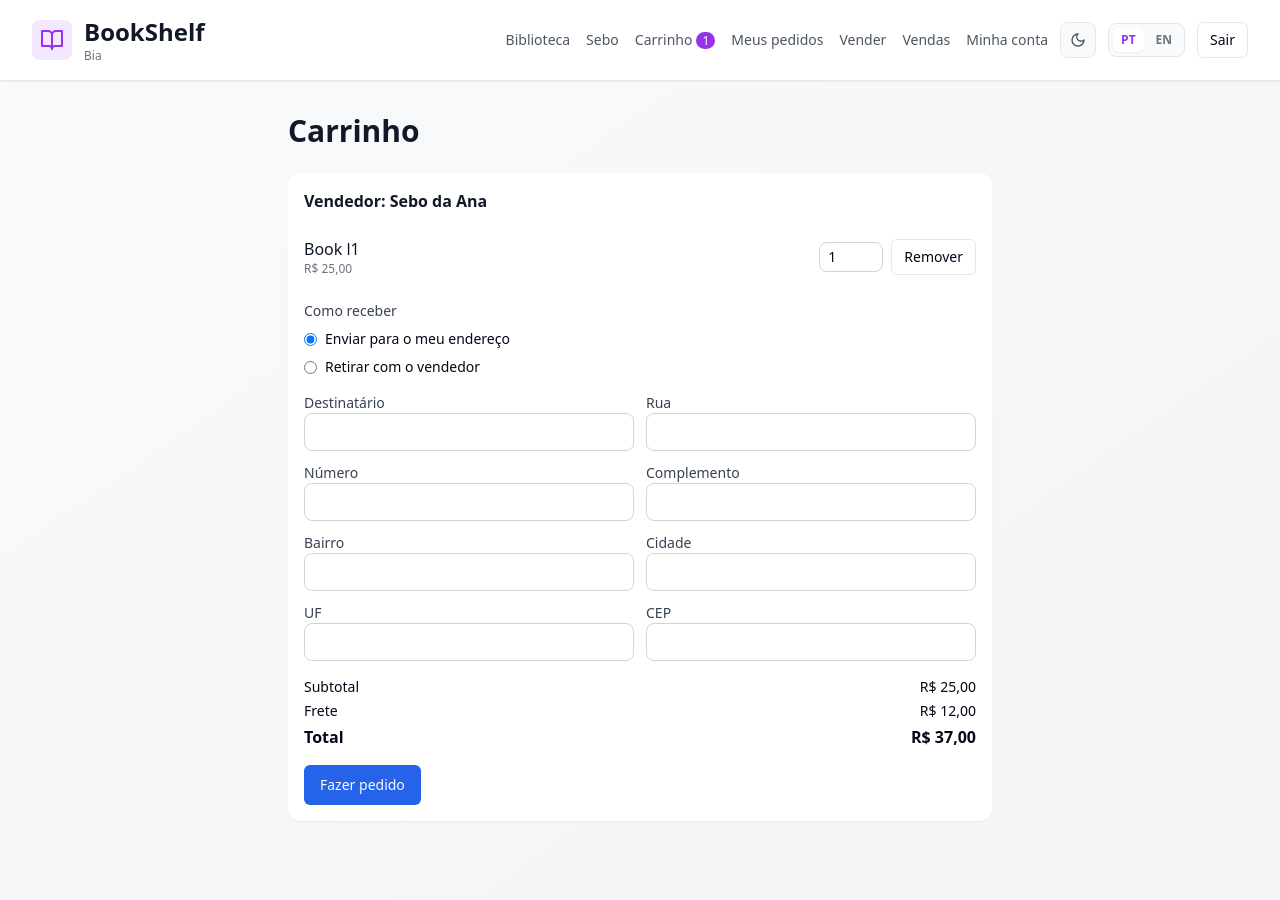
CartPage › shows the localised error and keeps the cart when the order fails
This screenshot has width=1280, height=900.
Click the radio button with test id "cart-method-pickup-seller-1": (310, 367) [304,360,317,374]
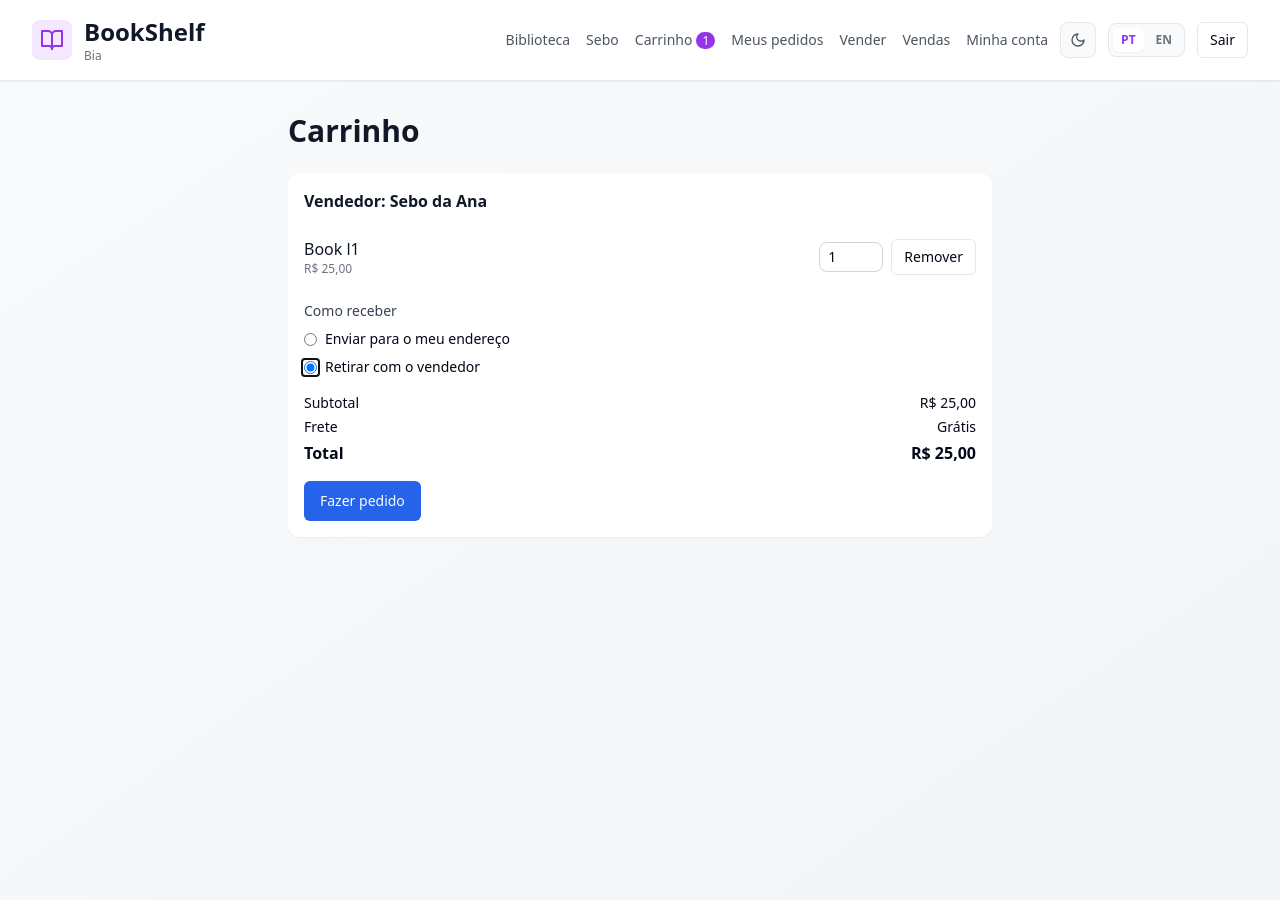
Click the button with test id "cart-checkout-seller-1": (362, 501) [304,481,421,521]
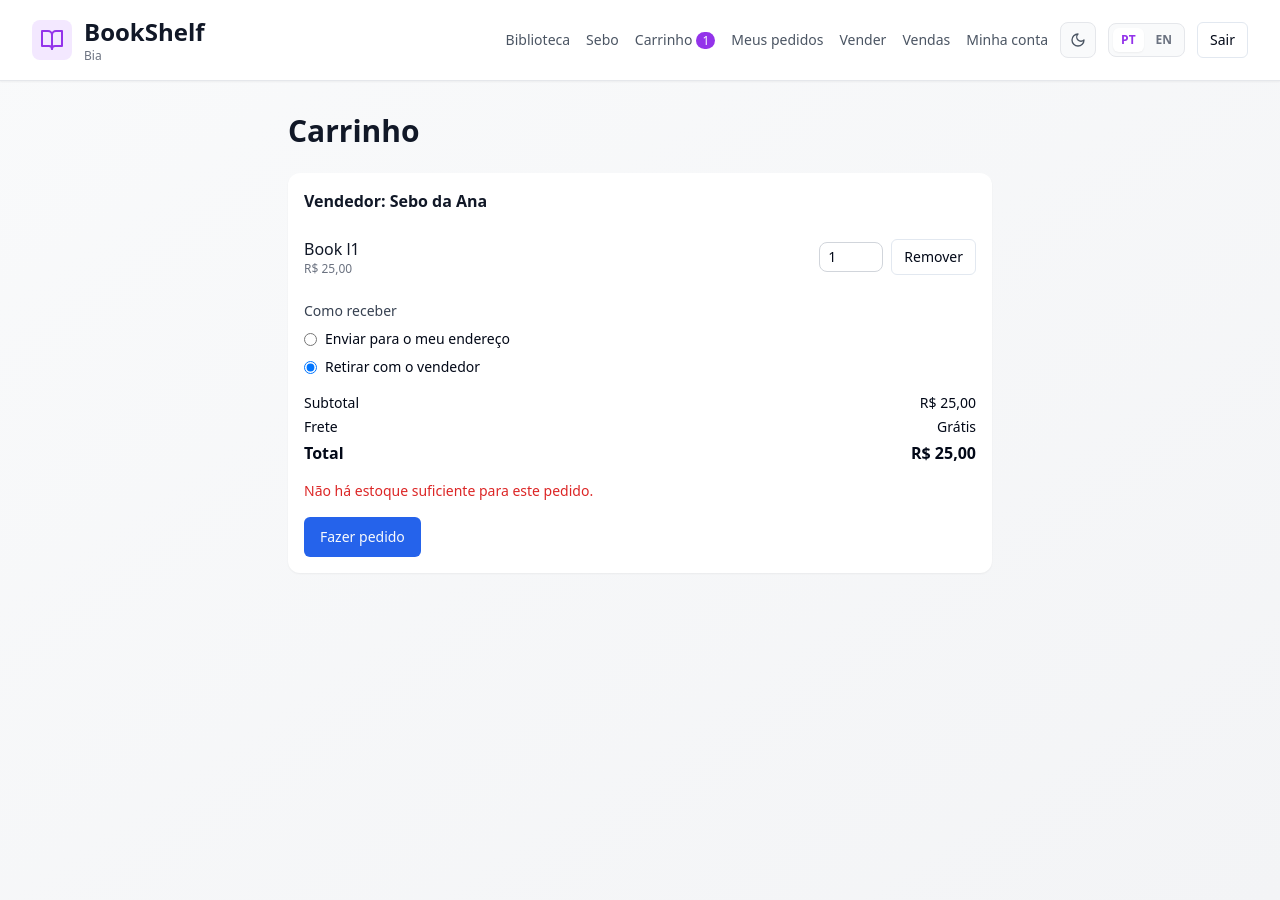
Expected: the list item with test id "cart-item-l1" is shown, [304,229,976,285]
Expected: the message with test id "cart-error-seller-1" shows "estoque suficiente", [304,481,593,500]
